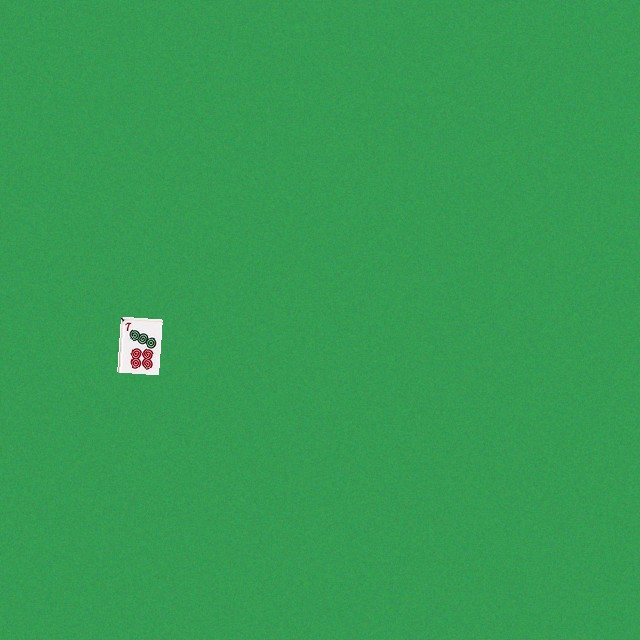tile: (117, 316, 159, 372)
